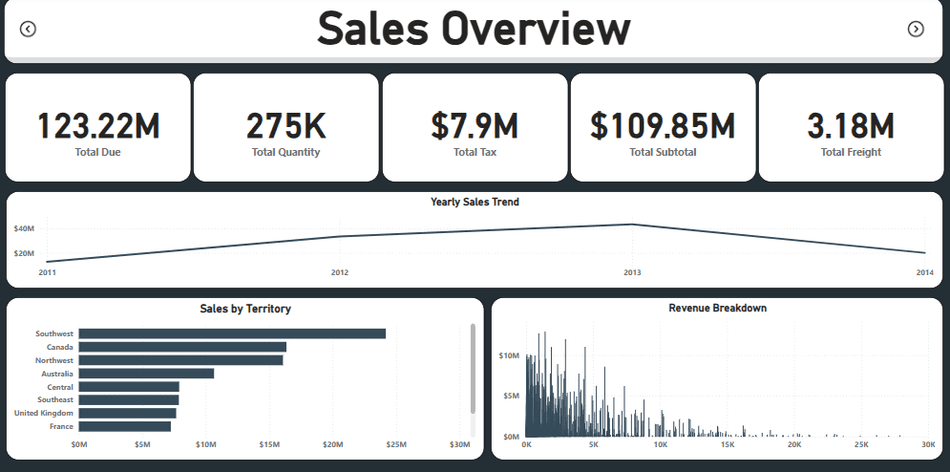

What the dashboard file says about the page in this screenshot:
{"tool":"powerbi","page":{"name":"Sales Overview","canvas":[1500,750],"ordinal":1},"visuals":[{"type":"card","fields":{"Values":["Measurres.Total Due"]},"box":[14,118.6,292.8,172.5],"z":0,"group":"g1"},{"type":"lineChart","title":"Yearly Sales Trend","fields":{"Y":["Measurres.Total Subtotal"],"Category":["Fact Order.OrderYear"]},"box":[14.5,304.8,1472.6,153.2],"z":0},{"type":"card","fields":{"Values":["Measurres.Total Tax"]},"box":[605.9,118.6,292.8,172.5],"z":1000,"group":"g1"},{"type":"clusteredBarChart","title":"Sales by Territory","fields":{"Category":["Territory.Territory"],"Y":["Measurres.Total Subtotal"]},"box":[14.5,471,751.6,256.5],"z":1000},{"type":"group","id":"g1","title":"Group 1","box":[14,118.6,1475.6,172.7],"z":2000},{"type":"card","fields":{"Values":["Measurres.Total Subtotal"]},"box":[901.9,118.6,292.8,172.5],"z":2000,"group":"g1"},{"type":"textbox","title":"Sales Overview","box":[12,0,1476,105],"z":3000},{"type":"card","fields":{"Values":["Measurres.Total Quantity"]},"box":[310,118.6,292.8,172.5],"z":3000,"group":"g1"},{"type":"card","fields":{"Values":["Measurres.Total Freight"]},"box":[1197,118.6,292.8,172.5],"z":4000,"group":"g1"},{"type":"columnChart","title":"Revenue Breakdown","fields":{"Category":["Fact Order.LineTotal","Fact Order.TaxAmt","Fact Order.Freight","Fact Order.TotalDue"],"Y":["Measurres.Total Subtotal"]},"box":[777.4,471,711.3,256.5],"z":4000},{"type":"actionButton","box":[1424.6,30.2,40.2,40.2],"z":5000},{"type":"actionButton","box":[30.2,30.2,40.2,40.2],"z":6000}]}

Visuals, with their boxes in screenshot pixels (x1, y1, x2, y2), scaled from the page's 1500x750 canvas onto the 950x472 screenshot:
card - Measurres.Total Due: box(9, 75, 194, 183)
"Yearly Sales Trend" lineChart: box(9, 192, 942, 288)
card - Measurres.Total Tax: box(384, 75, 569, 183)
"Sales by Territory" clusteredBarChart: box(9, 296, 485, 458)
"Group 1" group: box(9, 75, 943, 183)
card - Measurres.Total Subtotal: box(571, 75, 757, 183)
"Sales Overview" textbox: box(8, 0, 942, 66)
card - Measurres.Total Quantity: box(196, 75, 382, 183)
card - Measurres.Total Freight: box(758, 75, 944, 183)
"Revenue Breakdown" columnChart: box(492, 296, 943, 458)
actionButton: box(902, 19, 928, 44)
actionButton: box(19, 19, 45, 44)
